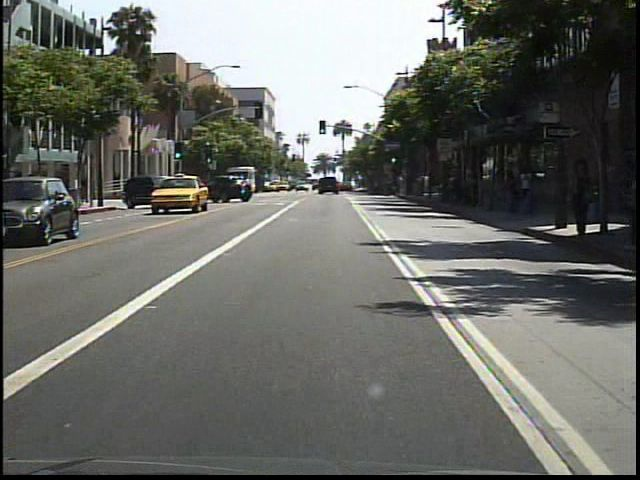person: (563, 155, 596, 242), (612, 163, 638, 246), (516, 165, 536, 213)
